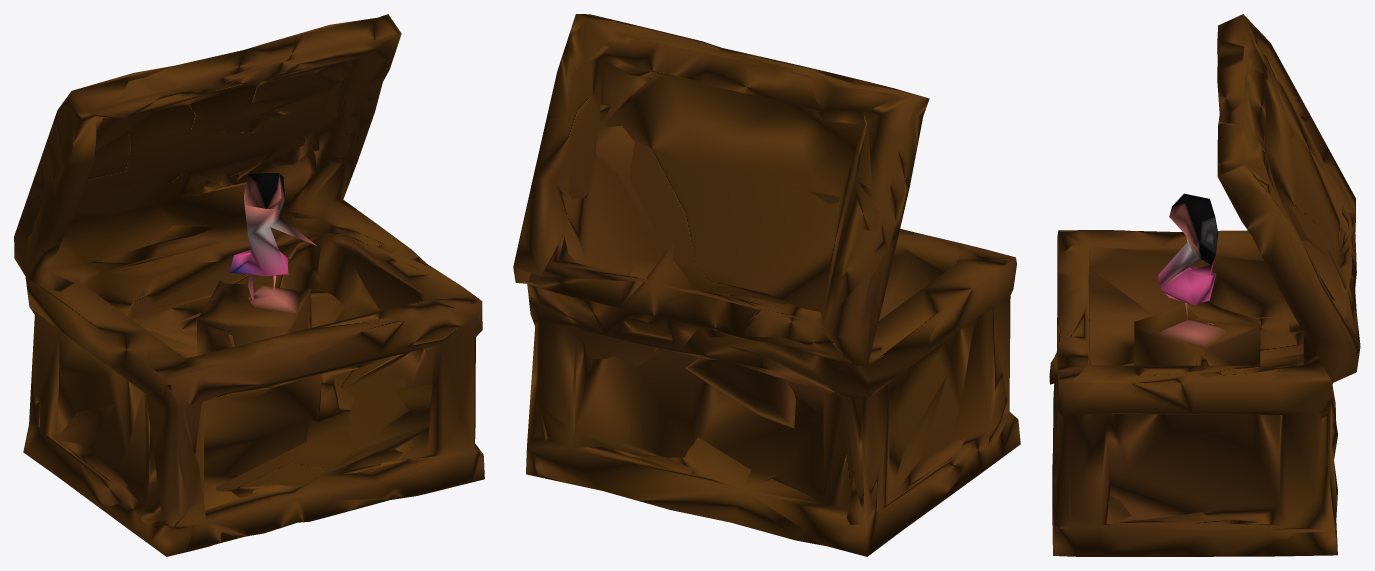
File: gen3d-music-box-lod0.glb
3 views of the same model, side by side, from view 1: azimuth 30°, elevation 25°; view 2: azimuth 150°, elevation 25°; view 3: azimuth 270°, elevation 25° (orthographic). The views are drawn at different scales.
Visible parts, largest first — view 1: part_0; view 2: part_0; view 3: part_0.
Part boxes in pixels (x1,y1,x2,y2): part_0: [14, 14, 484, 556]; part_0: [513, 14, 1020, 556]; part_0: [1049, 14, 1360, 556].
Bounding box in the file's own units: 0.8479 × 0.9996 × 0.7219.
